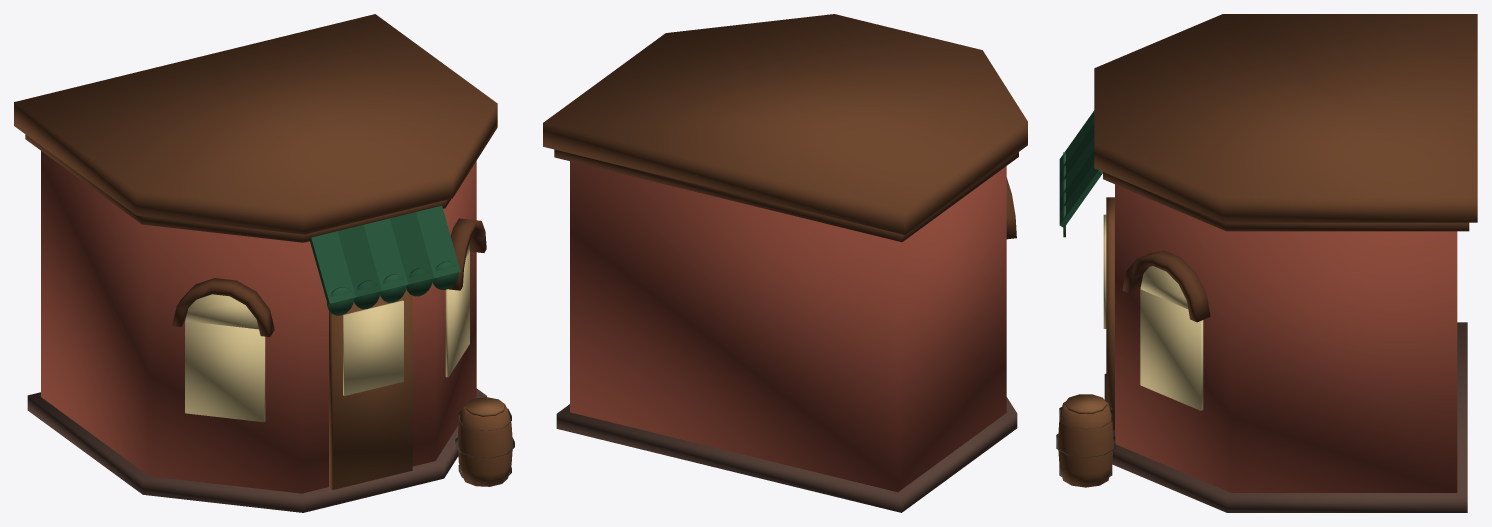
File: bar.glb
3 views of the same model, side by side, from view 1: azimuth 30°, elevation 25°; view 2: azimuth 150°, elevation 25°; view 3: azimuth 270°, elevation 25° (orthographic). The views are drawn at different scales.
Parts seen in each view (by area): view 1: bar; view 2: bar; view 3: bar.
Boxes of the visible parts, bbox=[...] form: bar: bbox=[14, 14, 514, 512]; bar: bbox=[543, 14, 1027, 512]; bar: bbox=[1056, 14, 1477, 512].
Bounding box in the file's own units: 2.54 × 2.06 × 2.46.
